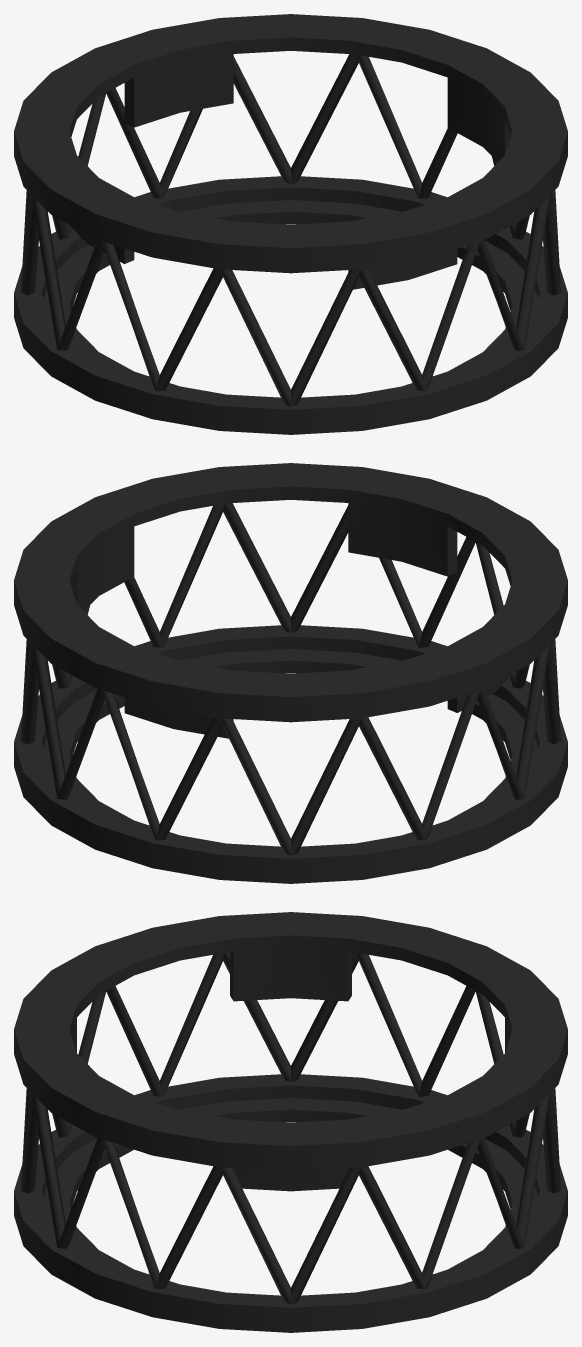
Rendered from TLV_1_Decoupler_1.obj.
3 views of the same model, one above another, from view 1: azimuth 30°, elevation 25°; view 2: azimuth 150°, elevation 25°; view 3: azimuth 270°, elevation 25° (orthographic).
Parts seen in each view (by area): view 1: TLV_1_Decoupler_1; view 2: TLV_1_Decoupler_1; view 3: TLV_1_Decoupler_1.
Part boxes in pixels (left/top/right/bottom): TLV_1_Decoupler_1: left=14, top=14, right=567, bottom=434; TLV_1_Decoupler_1: left=14, top=463, right=567, bottom=883; TLV_1_Decoupler_1: left=14, top=912, right=567, bottom=1332.
Bounding box in the file's own units: 1.25 × 0.465 × 1.25.
